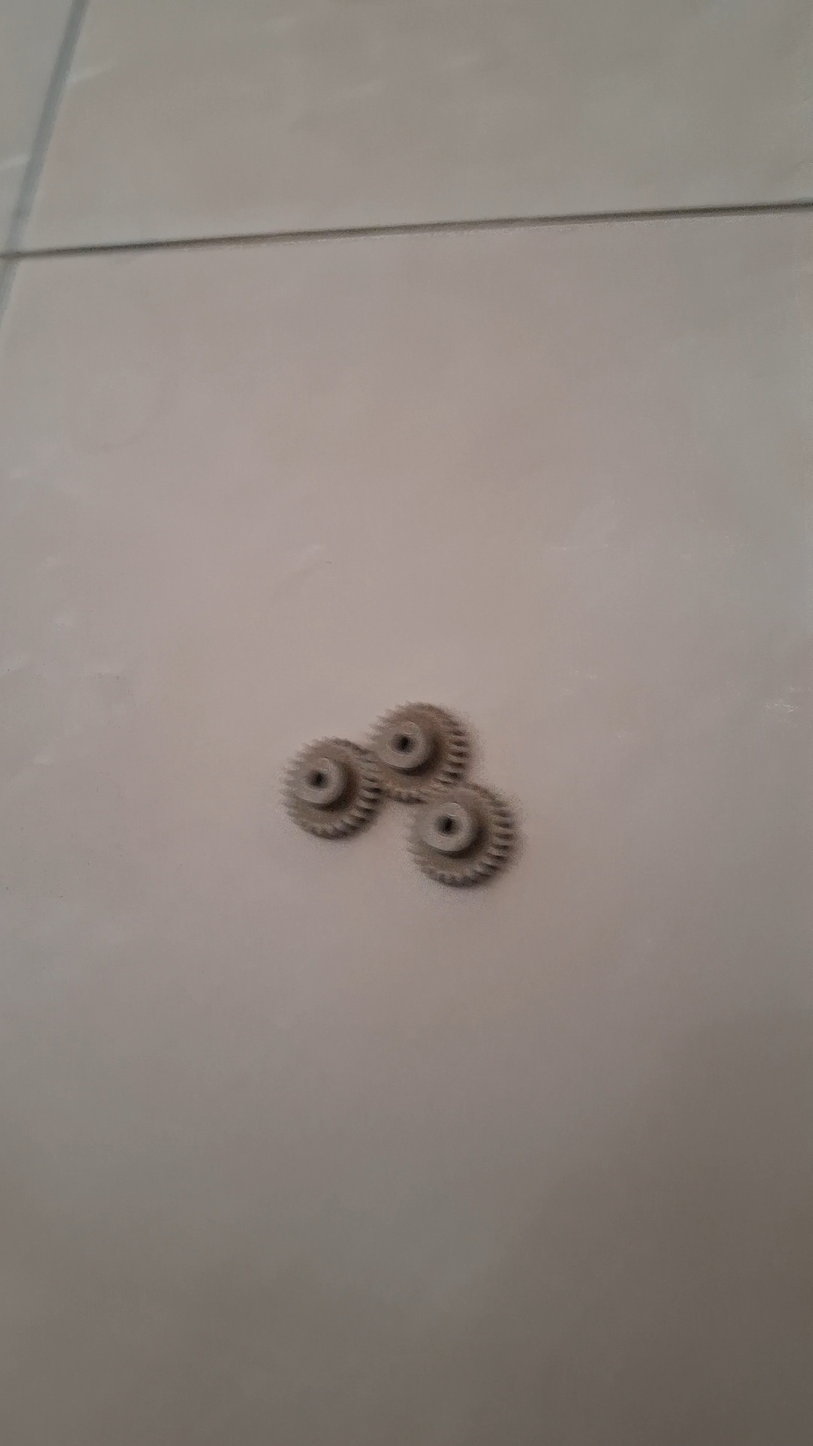spur gear: (411, 782, 515, 885), (283, 739, 382, 838), (370, 703, 469, 802)
